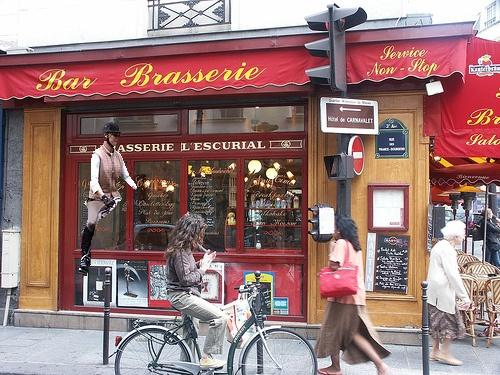tampered: (80, 122, 137, 276)
